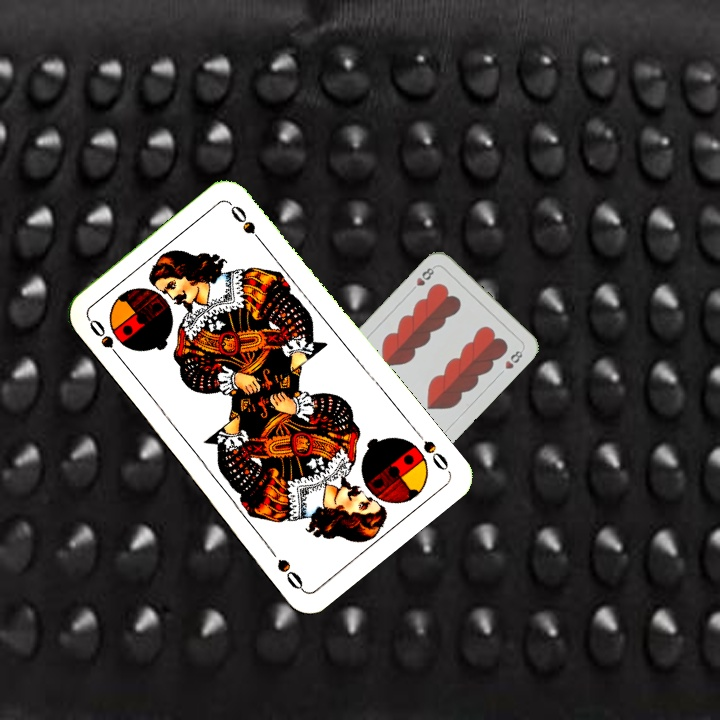H8: (406, 262, 438, 295)
SO: (85, 315, 127, 365), (410, 425, 452, 475)
